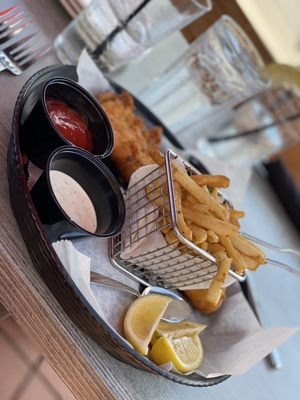curry: (2, 2, 300, 364)
